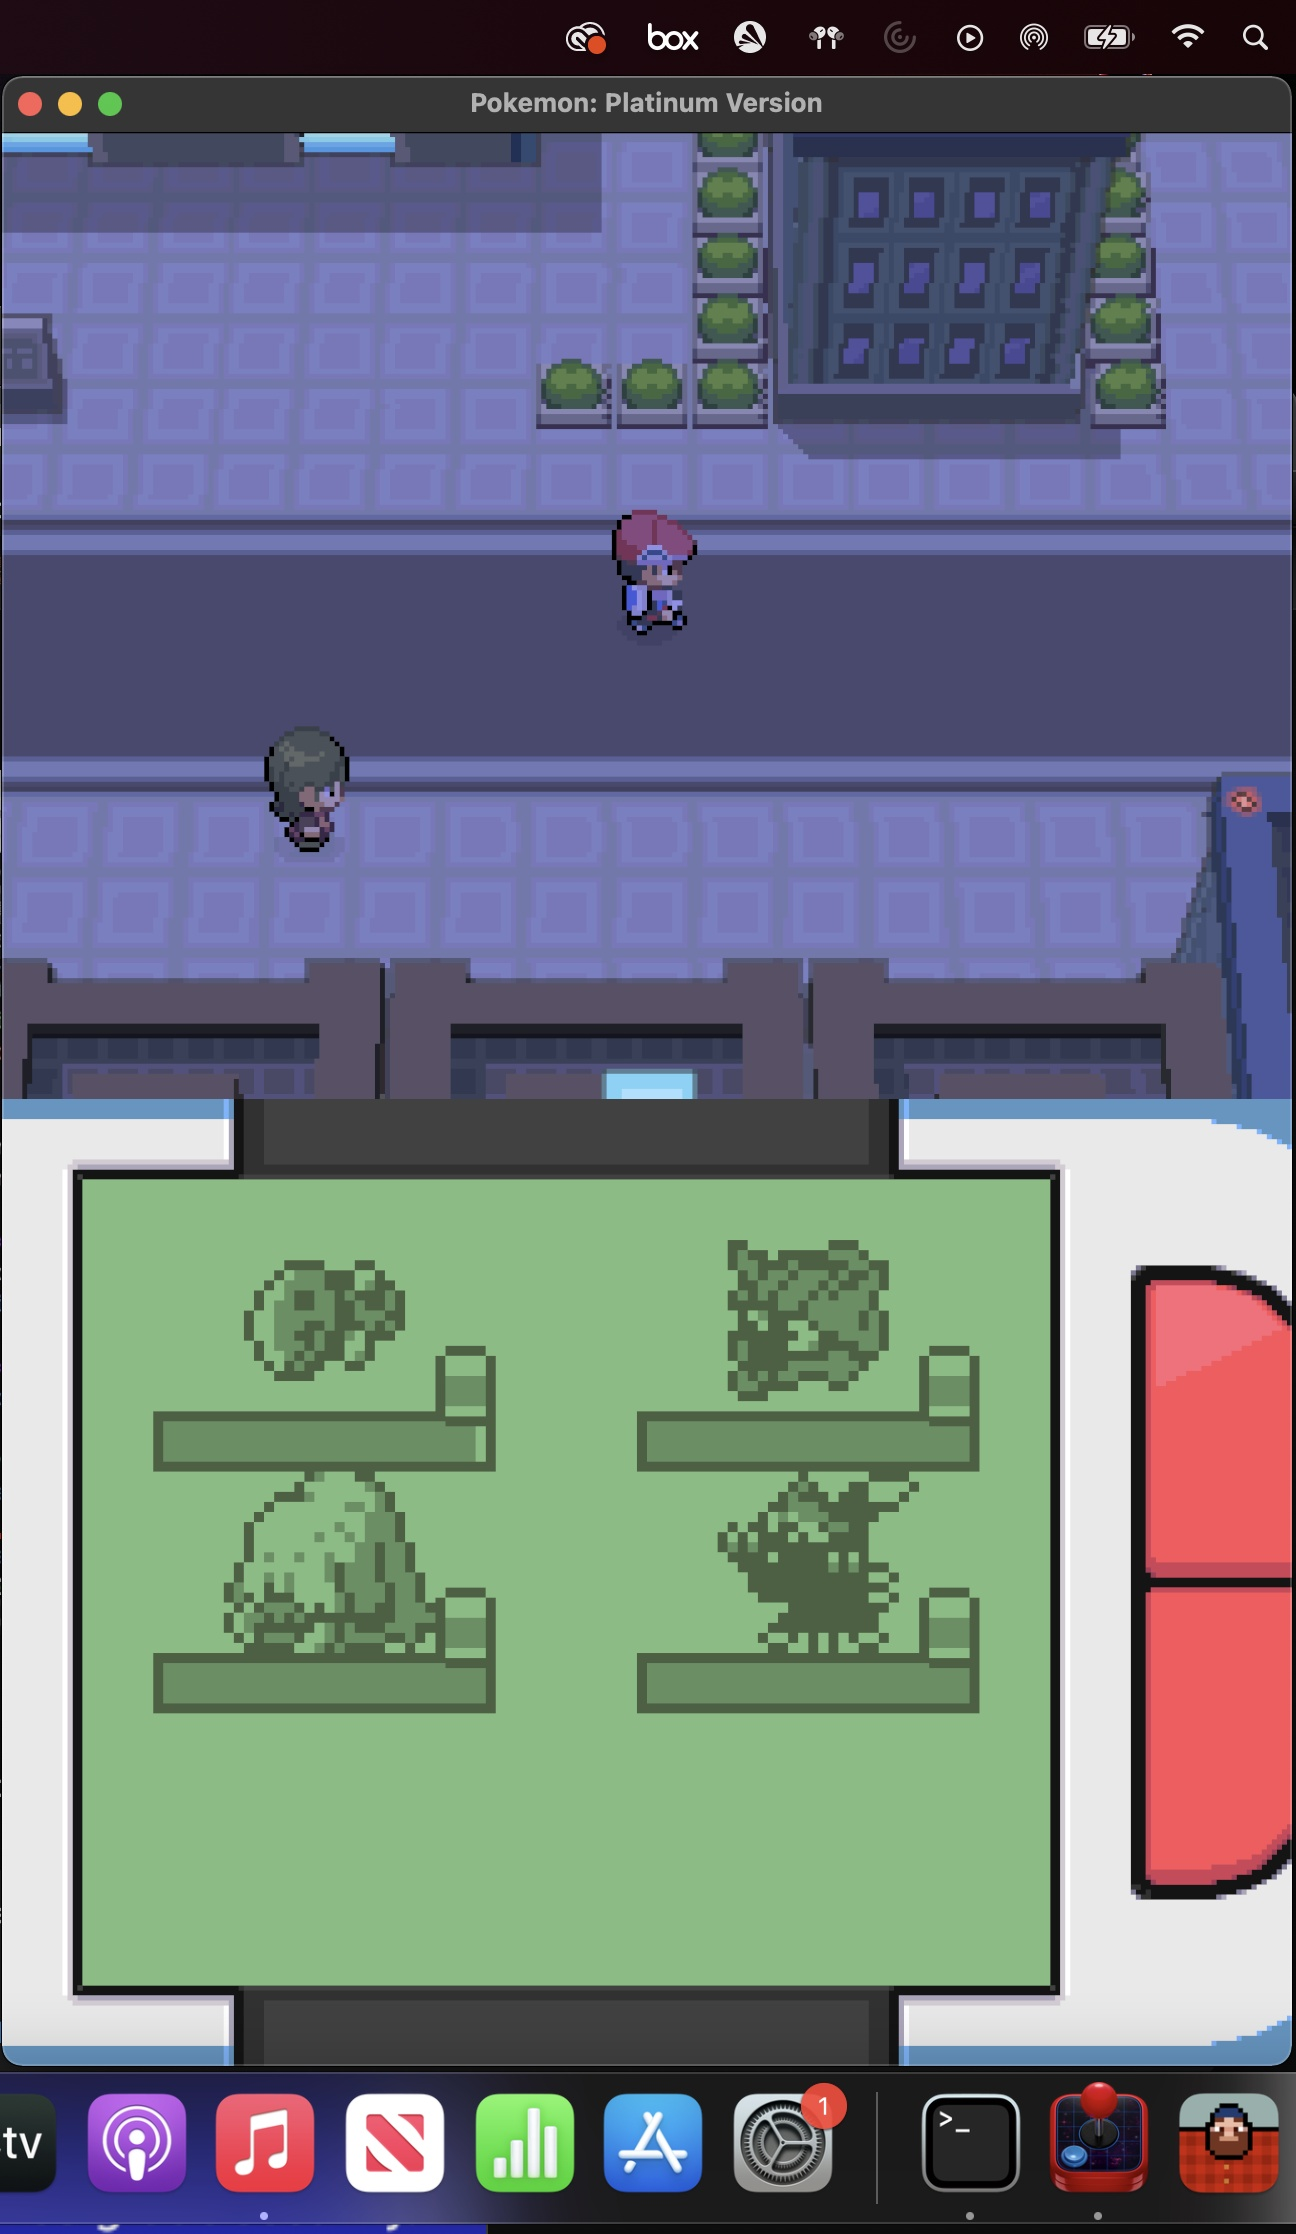player: (599, 505, 704, 649)
